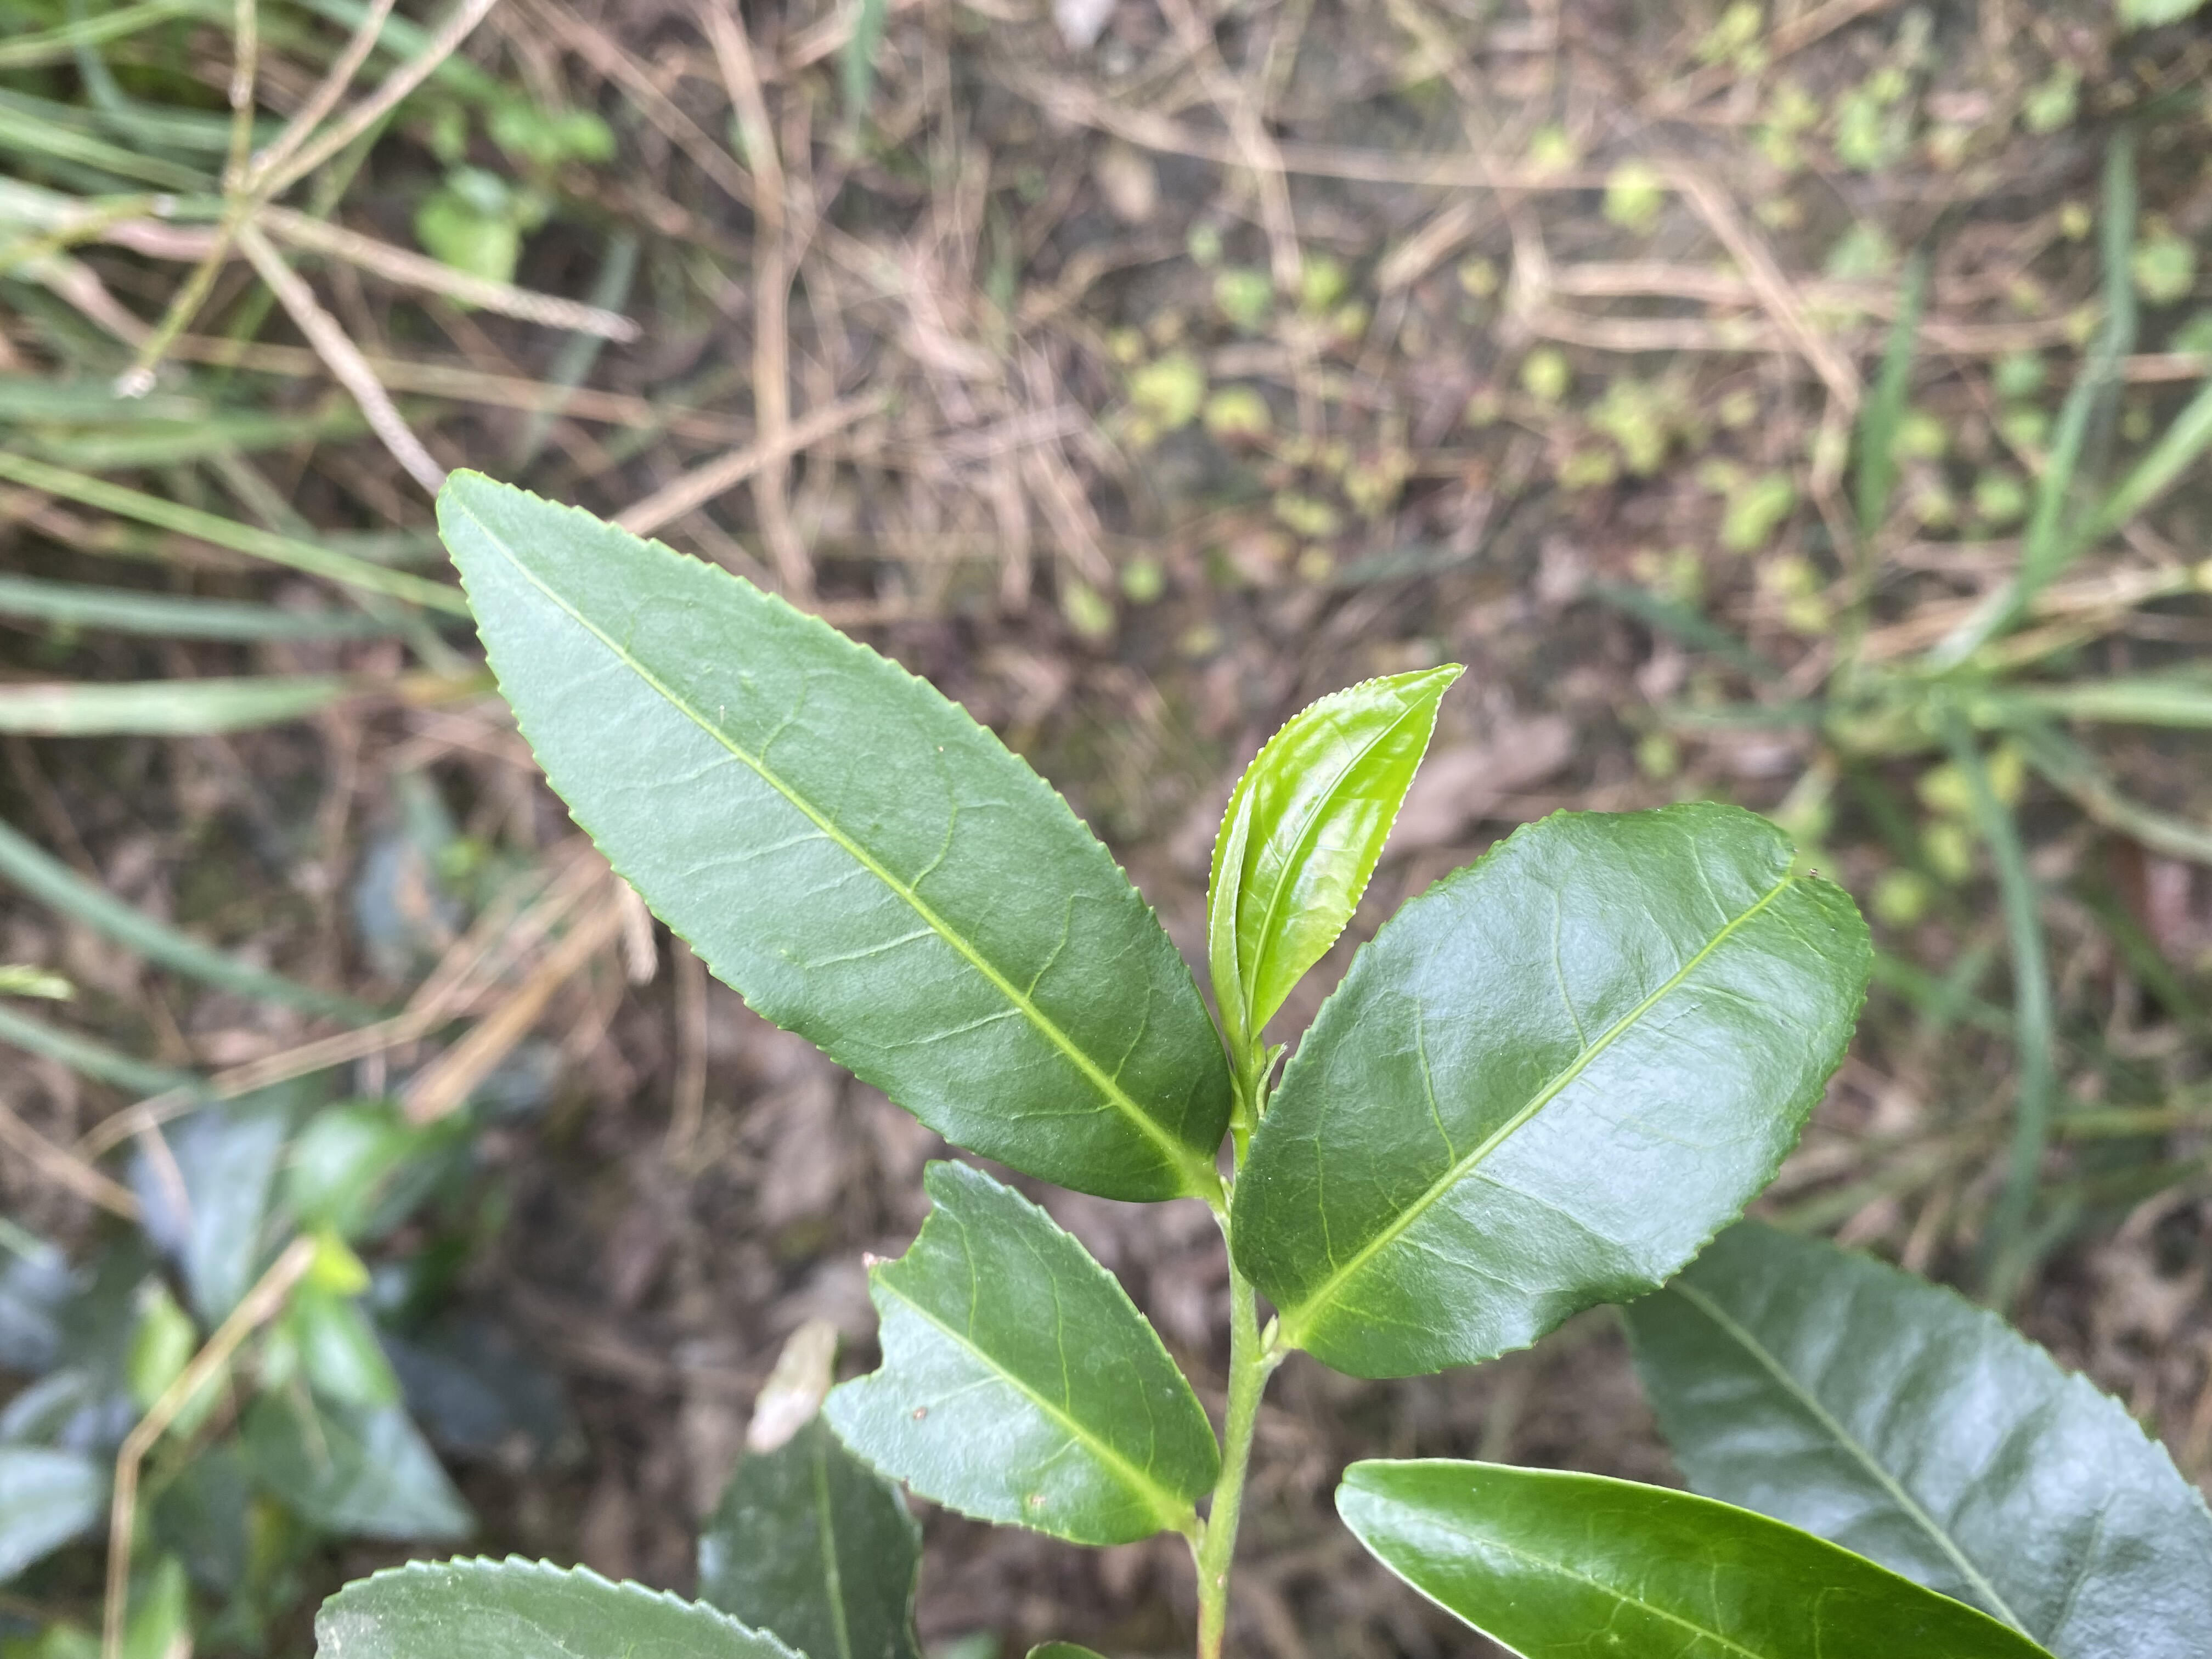chihuo_high: (819, 1159, 1221, 1547)
healthy: (434, 465, 1240, 1199), (1230, 802, 1874, 1384), (1336, 1455, 2054, 1656), (1202, 657, 1467, 1049)
